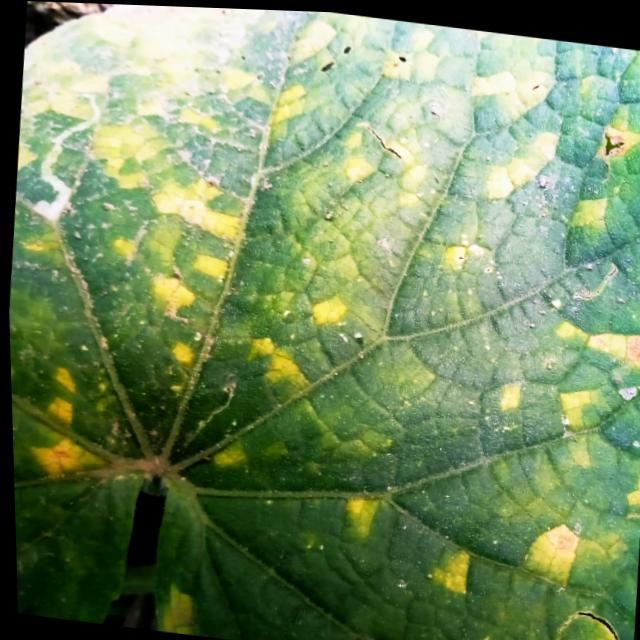Downy-Mildew: (7, 6, 640, 640)
